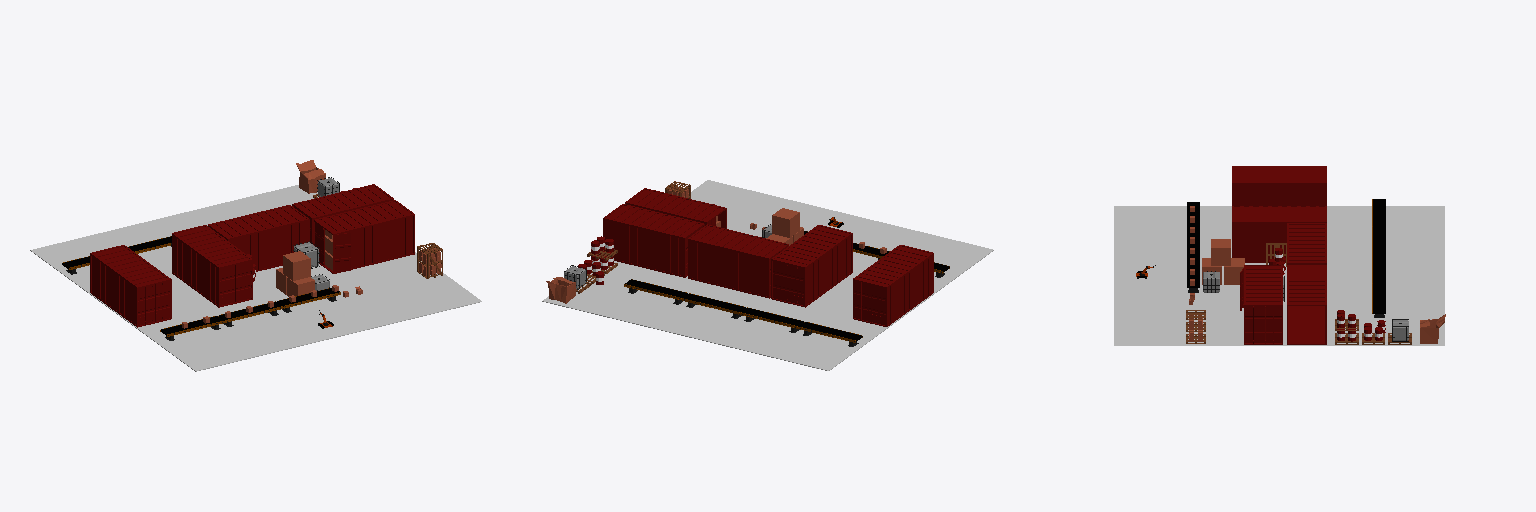
Rendered from level_01.obj.
3 renders of one model, left to right at view 1: azimuth 30°, elevation 25°; view 2: azimuth 150°, elevation 25°; view 3: azimuth 270°, elevation 25°, orthographic.
Visible parts, largest first — view 1: Cube_Cube.001, Container_02_2_Mesh.021, Container_02_2_Mesh.001, Container_02_2_Mesh.004, Container_02_2_Mesh.003, Container_02_2_Mesh.002, Cube.001_Cube.007_Cube.001_Cube.008, Cube.001_Cube.006_Cube.001_Cube.007, 01_1_Mesh.003, Cardboard_02_Mesh.001_Cardboard_02_Mesh.002, 02_2_Mesh.022, 01_1_Mesh.004 (+2 smaller); view 2: Cube_Cube.001, Container_02_2_Mesh.001, Container_02_2_Mesh.002, Container_02_2_Mesh.003, Container_02_2_Mesh.004, Container_02_2_Mesh.021, Cube.001_Cube.007_Cube.001_Cube.008, 02_1_Mesh.001, 02_1_Mesh.002, 02_2_Mesh.002, Cardboard_02_Mesh.001_Cardboard_02_Mesh.002, 02_2_Mesh.001; view 3: Cube_Cube.001, Container_02_2_Mesh.004, Container_02_2_Mesh.003, Container_02_2_Mesh.002, Container_02_2_Mesh.021, Container_02_2_Mesh.001, 01_2_Mesh.024, 01_1_Mesh.025, Cube.001_Cube.006_Cube.001_Cube.007, Cube.001_Cube.007_Cube.001_Cube.008.
Boxes of the visible parts, x1,y1,x2,y2 form: Cube_Cube.001: [30, 185, 481, 371]; Container_02_2_Mesh.021: [314, 200, 414, 273]; Container_02_2_Mesh.001: [208, 205, 309, 271]; Container_02_2_Mesh.004: [90, 245, 171, 327]; Container_02_2_Mesh.003: [172, 225, 252, 307]; Container_02_2_Mesh.002: [292, 184, 393, 244]; Cube.001_Cube.007_Cube.001_Cube.008: [283, 251, 310, 280]; Cube.001_Cube.006_Cube.001_Cube.007: [276, 268, 314, 296]; 01_1_Mesh.003: [235, 261, 251, 301]; Cardboard_02_Mesh.001_Cardboard_02_Mesh.002: [296, 160, 325, 193]; 02_2_Mesh.022: [335, 232, 350, 272]; 01_1_Mesh.004: [154, 281, 169, 321]; Cube_Cube.001: [542, 180, 993, 370]; Container_02_2_Mesh.001: [688, 224, 788, 298]; Container_02_2_Mesh.002: [603, 204, 704, 277]; Container_02_2_Mesh.003: [771, 225, 852, 307]; Container_02_2_Mesh.004: [853, 245, 933, 326]; Container_02_2_Mesh.021: [625, 188, 726, 228]; Cube.001_Cube.007_Cube.001_Cube.008: [772, 208, 799, 237]; 02_1_Mesh.001: [773, 261, 788, 301]; 02_1_Mesh.002: [854, 281, 869, 321]; 02_2_Mesh.002: [870, 285, 885, 325]; Cardboard_02_Mesh.001_Cardboard_02_Mesh.002: [546, 277, 575, 303]; 02_2_Mesh.001: [789, 265, 803, 305]; Cube_Cube.001: [1114, 206, 1444, 345]; Container_02_2_Mesh.004: [1232, 166, 1326, 205]; Container_02_2_Mesh.003: [1232, 206, 1326, 262]; Container_02_2_Mesh.002: [1287, 265, 1326, 344]; Container_02_2_Mesh.021: [1244, 265, 1282, 344]; Container_02_2_Mesh.001: [1287, 223, 1326, 264]; 01_2_Mesh.024: [1245, 306, 1263, 343]; 01_1_Mesh.025: [1264, 306, 1281, 343]; Cube.001_Cube.006_Cube.001_Cube.007: [1202, 258, 1244, 284]; Cube.001_Cube.007_Cube.001_Cube.008: [1211, 239, 1230, 265].
Bounding box in the file's own units: 20 × 2.75 × 20.07.